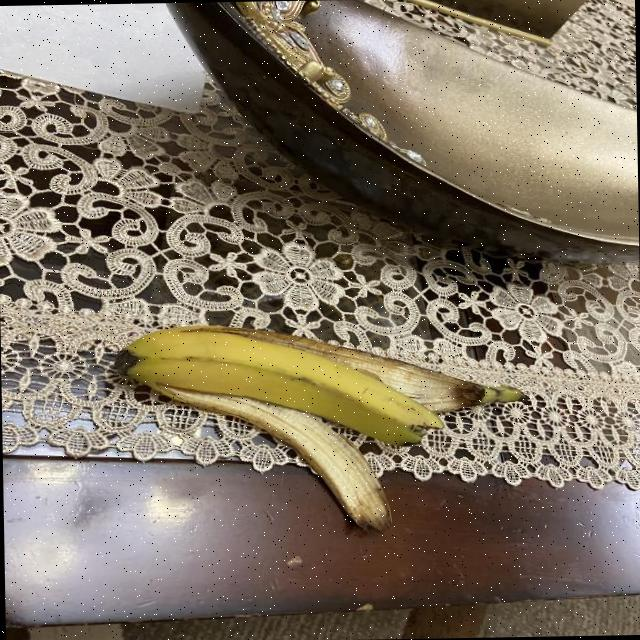banana-peel: (110, 316, 527, 538), (111, 318, 445, 450), (135, 375, 393, 537)
